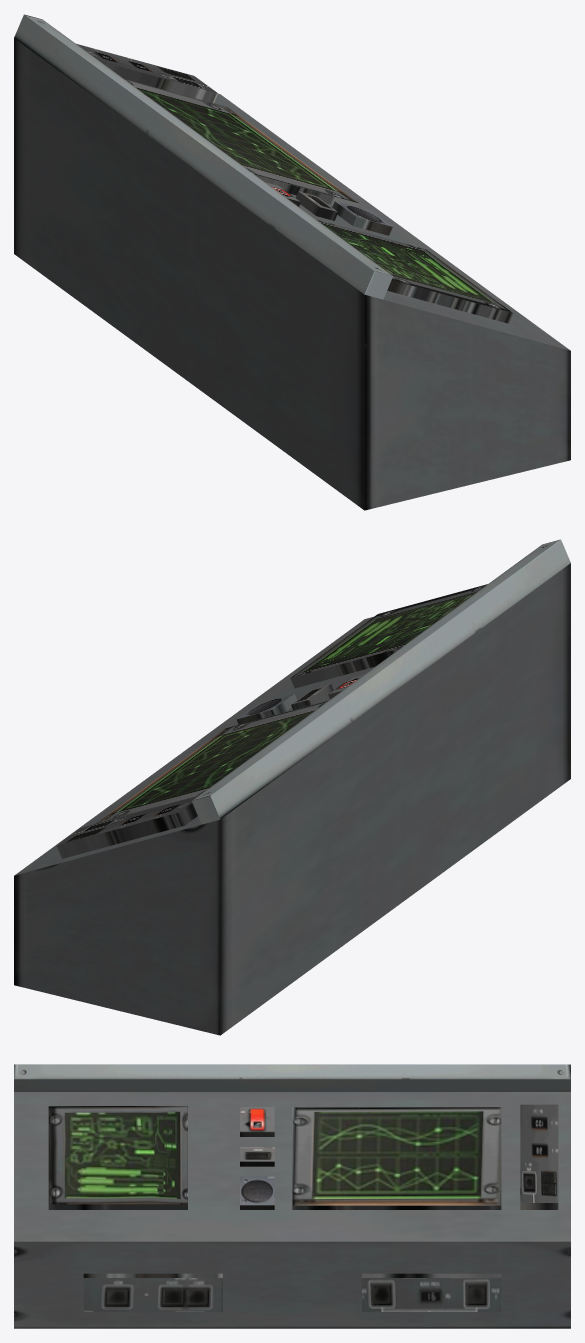
Rendered from Console1.fbx.
3 renders of one model, top to bottom at view 1: azimuth 30°, elevation 25°; view 2: azimuth 150°, elevation 25°; view 3: azimuth 270°, elevation 25°, orthographic. The views are drawn at different scales.
Parts seen in each view (by area): view 1: Cube.070; view 2: Cube.070; view 3: Cube.070.
Boxes of the visible parts, x1,y1,x2,y2 form: Cube.070: [14, 14, 570, 510]; Cube.070: [14, 539, 570, 1035]; Cube.070: [14, 1064, 570, 1328].
Size of the model in its own units: 8.82 by 9.19 by 24.61.
